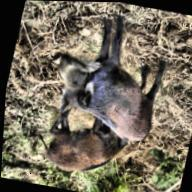boar: (43, 27, 192, 150), (26, 107, 126, 187)
